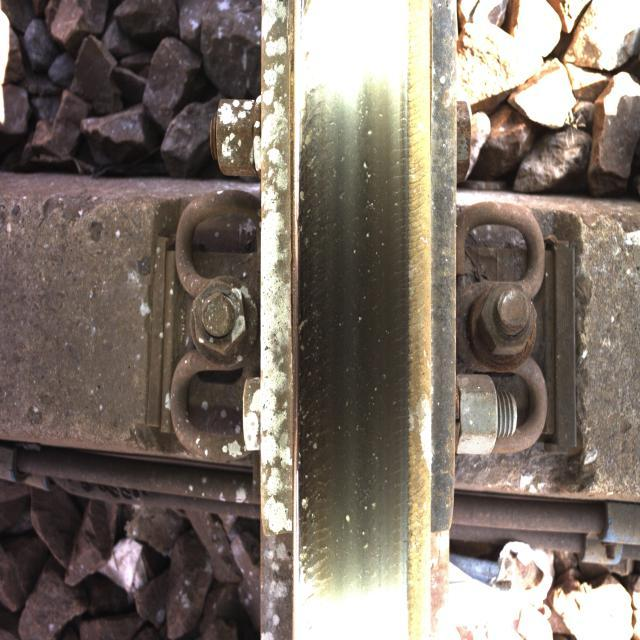scar: (302, 80, 398, 581)
